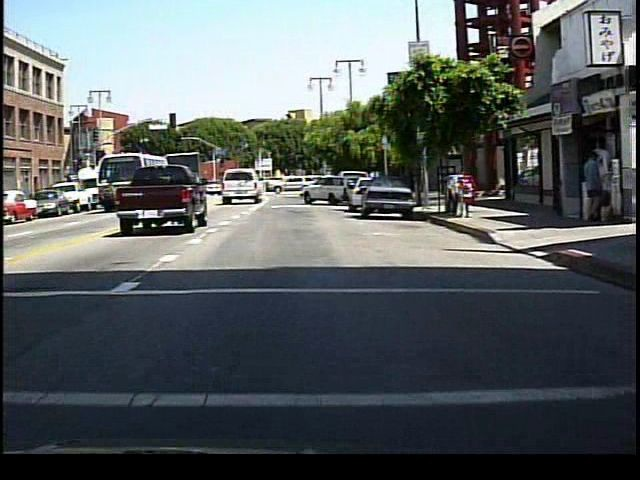person: (580, 148, 606, 225)
